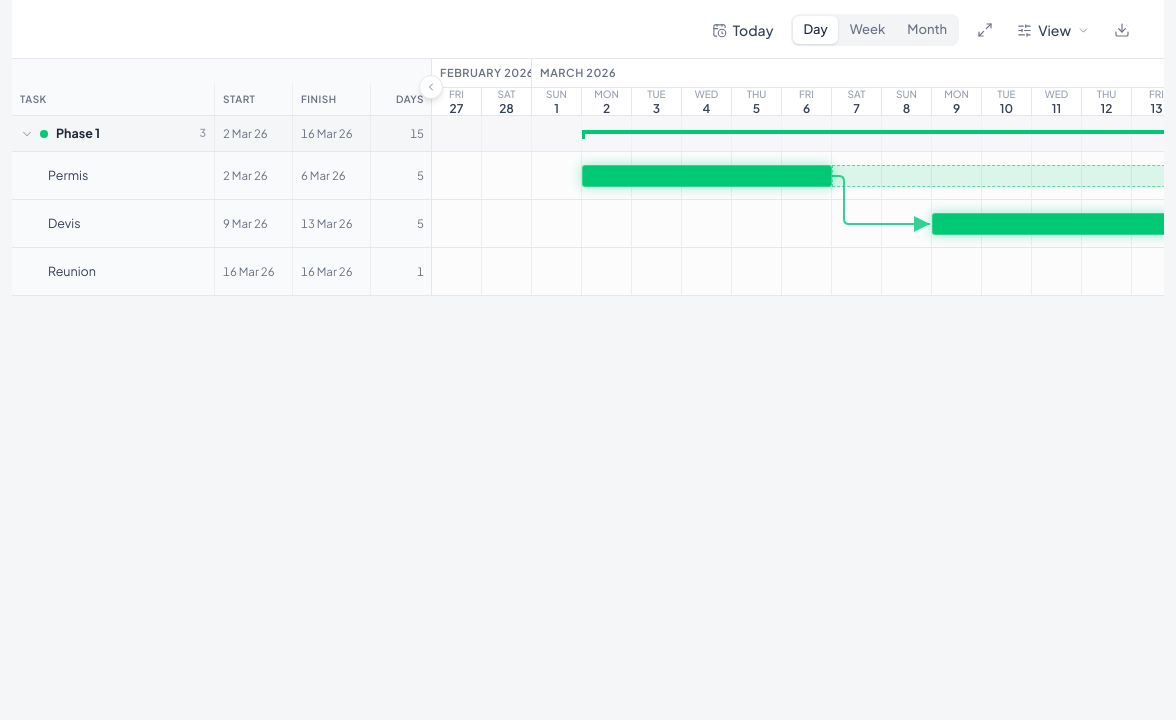
GanttChart baselines › shows the agreed plan and how far the finish has drifted
Click the button "View" at point(1054, 30), box [1007,14,1100,46]
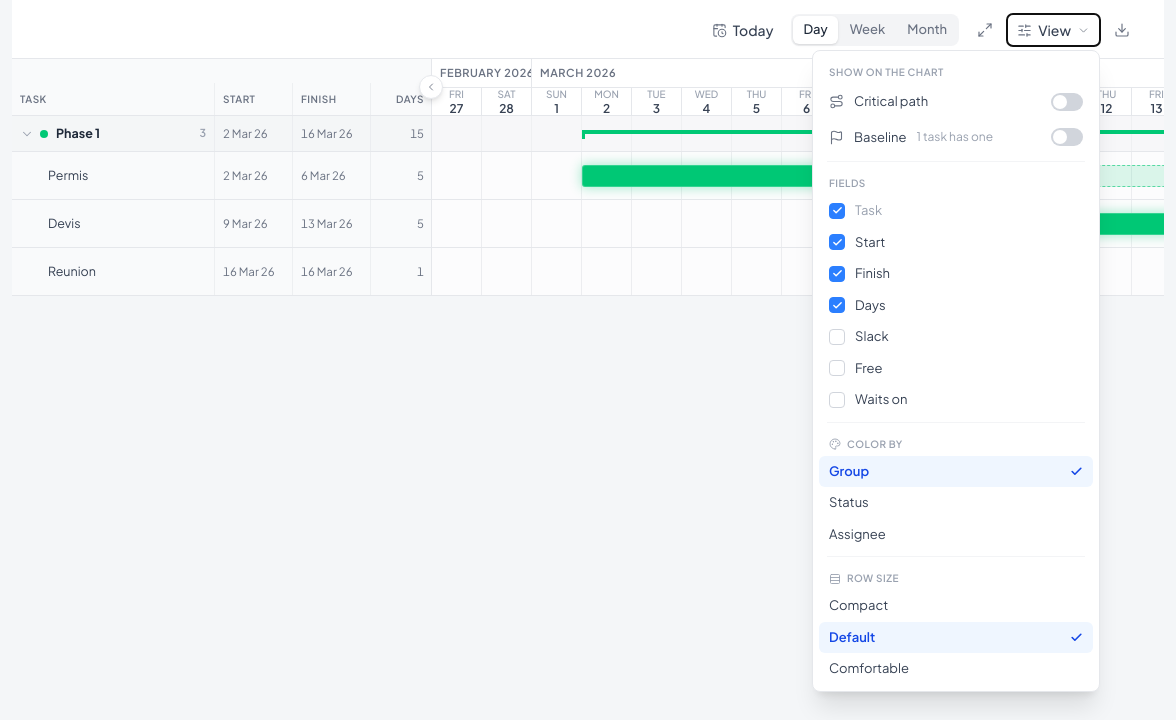
Click the switch labelled "Baseline 1 task has one" at point(956, 137), box [819,120,1093,155]
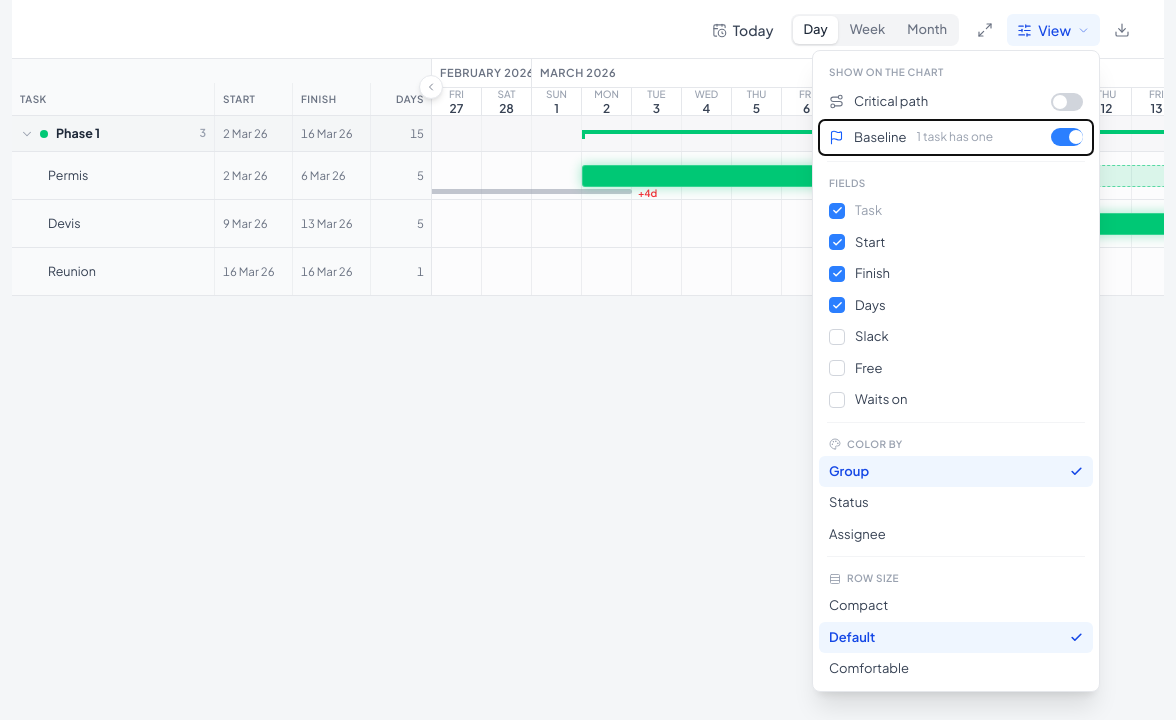
expect the text "+4d" is shown: met, box [638,186,657,201]
